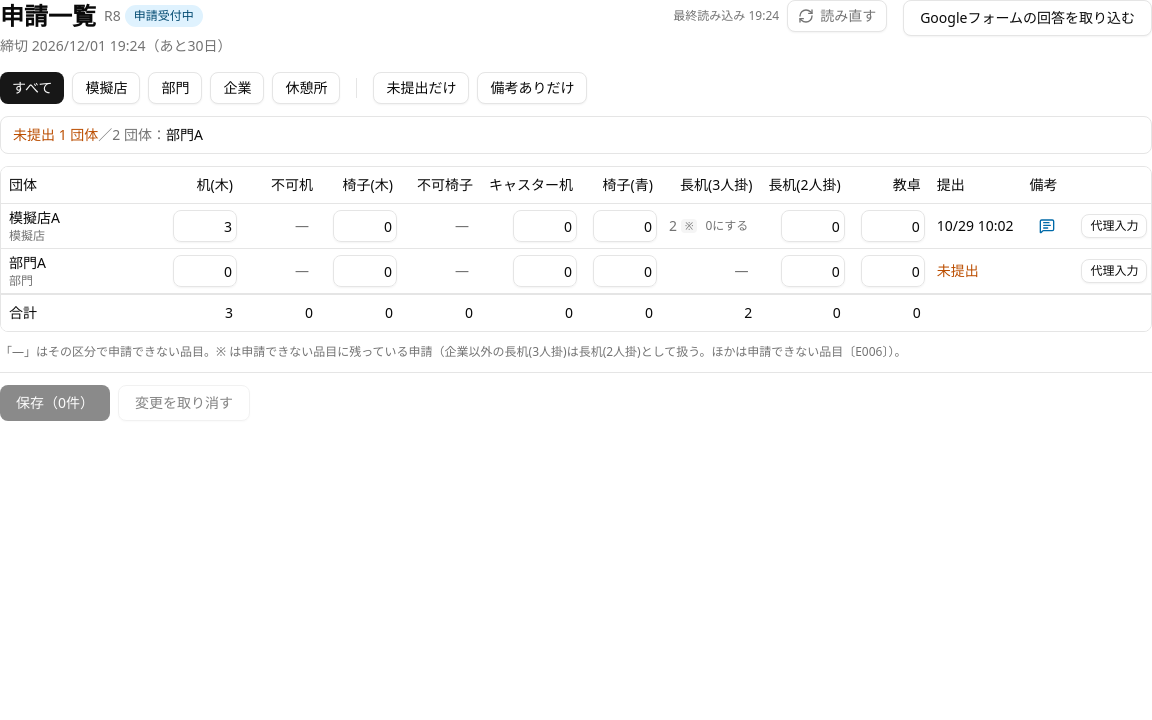
Test: 申請一覧 /requests › 代理入力（締切前）：ほかの人が変えていなければ、確かめずにそのまま提出する
Expected: the element with test id "requests-table" is shown, [0,166,1151,332]
Click the button "代理入力" in the row of "模擬店A".
click(1114, 226)  # box [1082,214,1148,238]
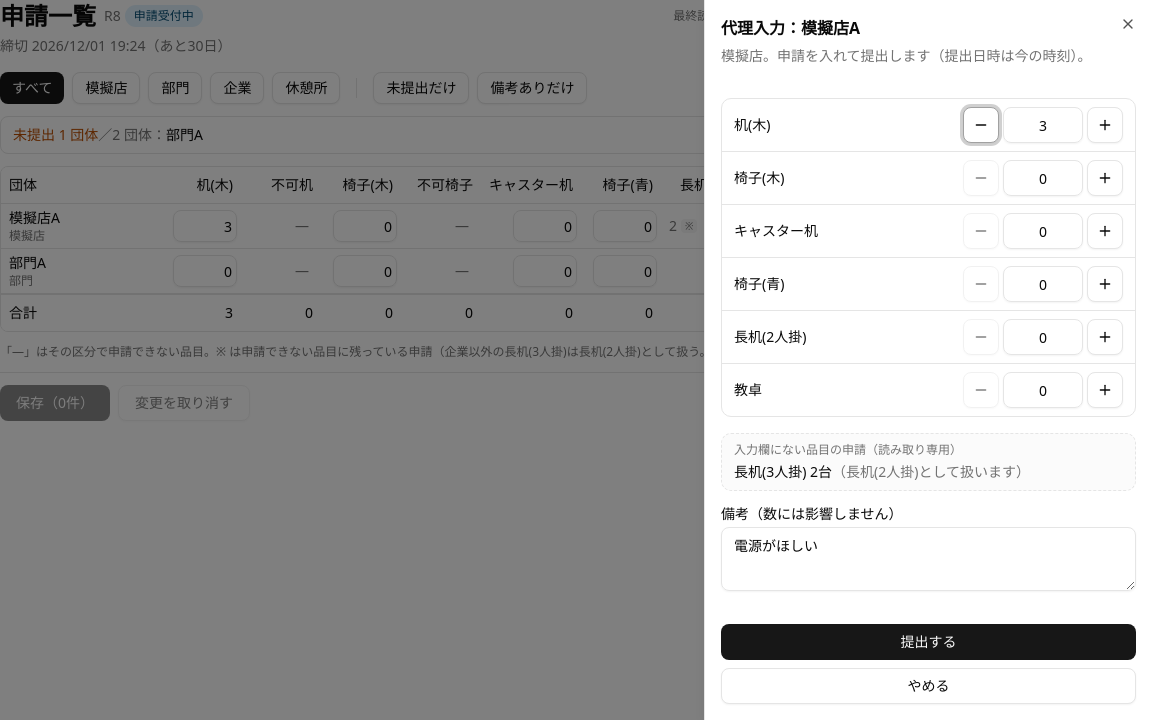
Click the button named "椅子(木)の数を1増やす".
click(1105, 178)  # box [1087,160,1123,196]
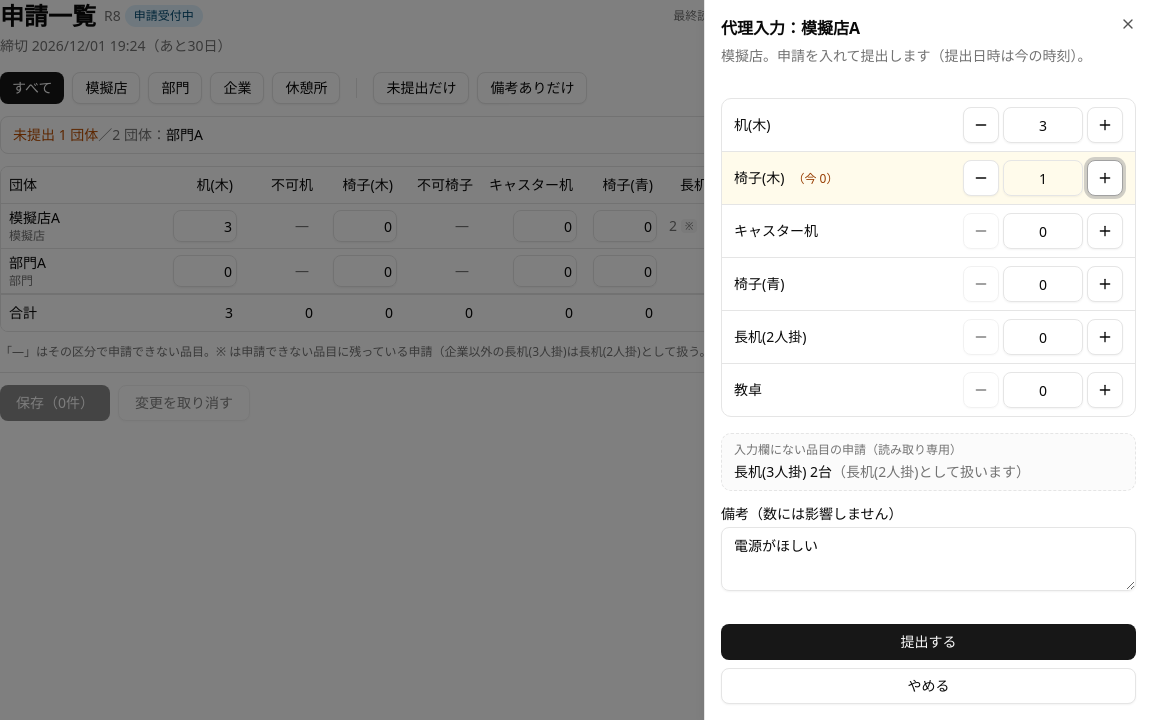
Click the button "提出する".
click(928, 642)  # box [721,624,1136,660]
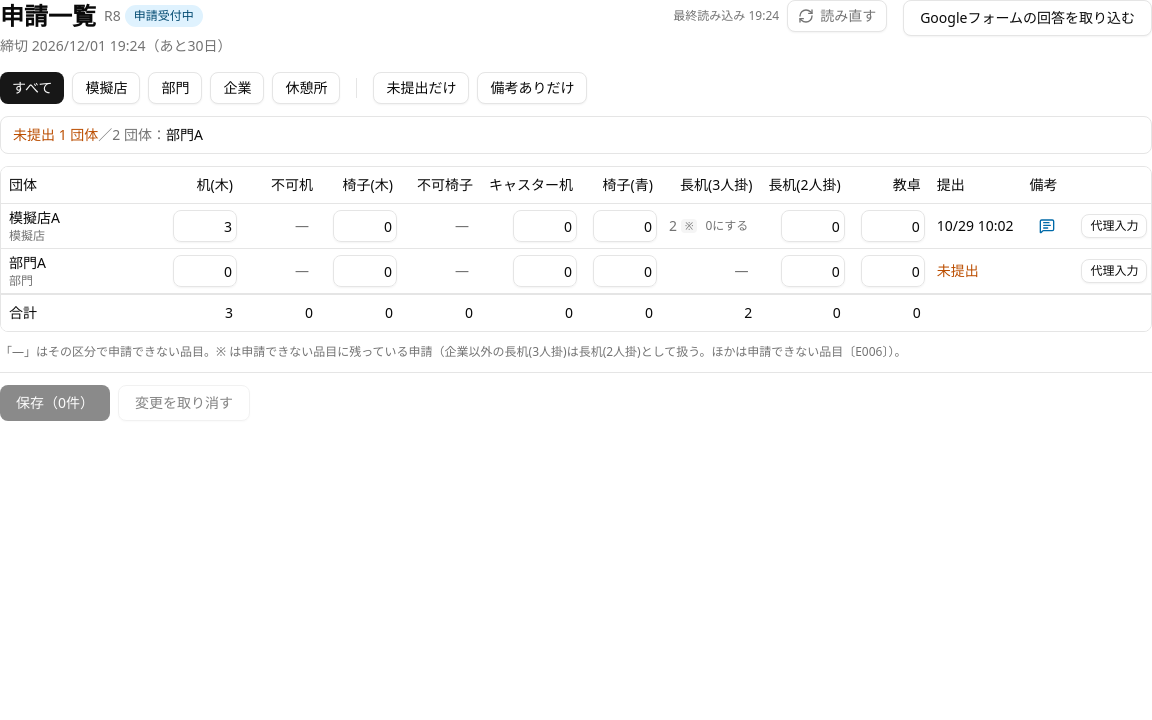
Expected: the dialog is gone
